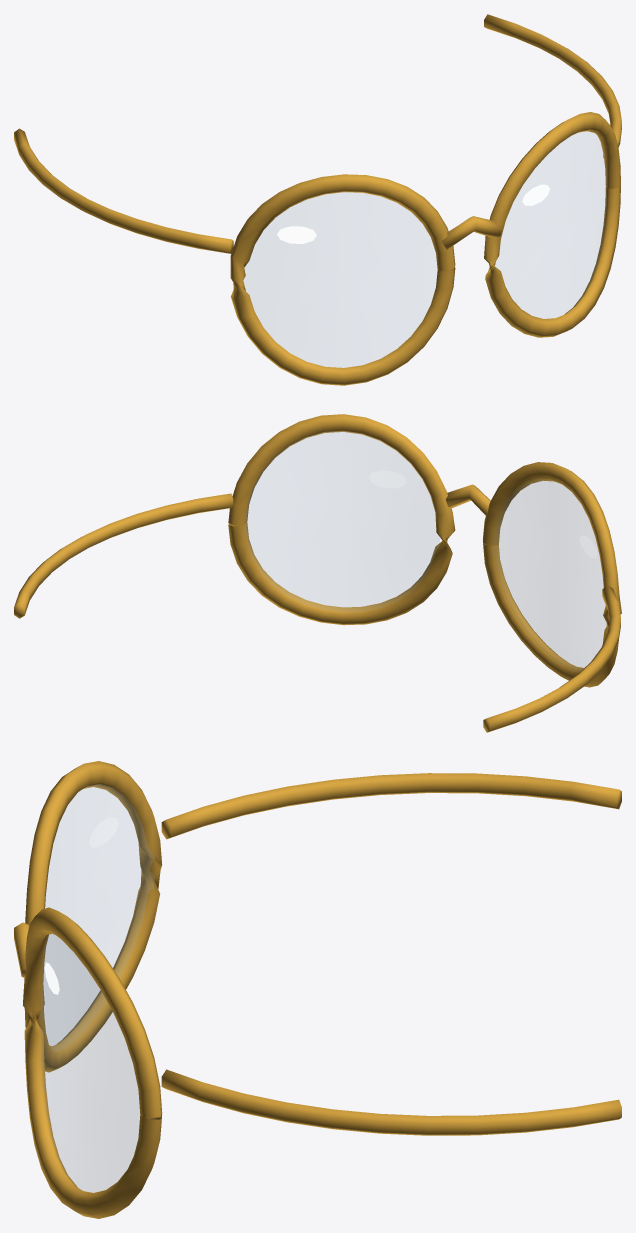
Rendered from gl_scholar.glb.
The picture shows the model from 3 angles, top to bottom: view 1: azimuth 30°, elevation 25°; view 2: azimuth 150°, elevation 25°; view 3: azimuth 270°, elevation 25°; orthographic projection. The views are drawn at different scales.
Parts seen in each view (by area): view 1: gl_scholar_q; view 2: gl_scholar_q; view 3: gl_scholar_q.
Boxes of the visible parts, x1,y1,x2,y2 form: gl_scholar_q: (14,14,621,385); gl_scholar_q: (14,414,621,732); gl_scholar_q: (14,761,621,1218).
Bounding box in the file's own units: 2.11 × 0.808 × 1.55.
